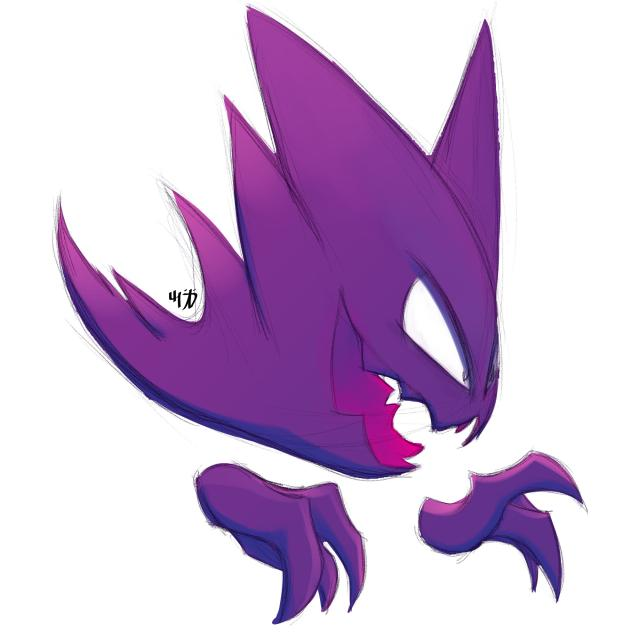Haunter: (181, 101, 557, 562)
